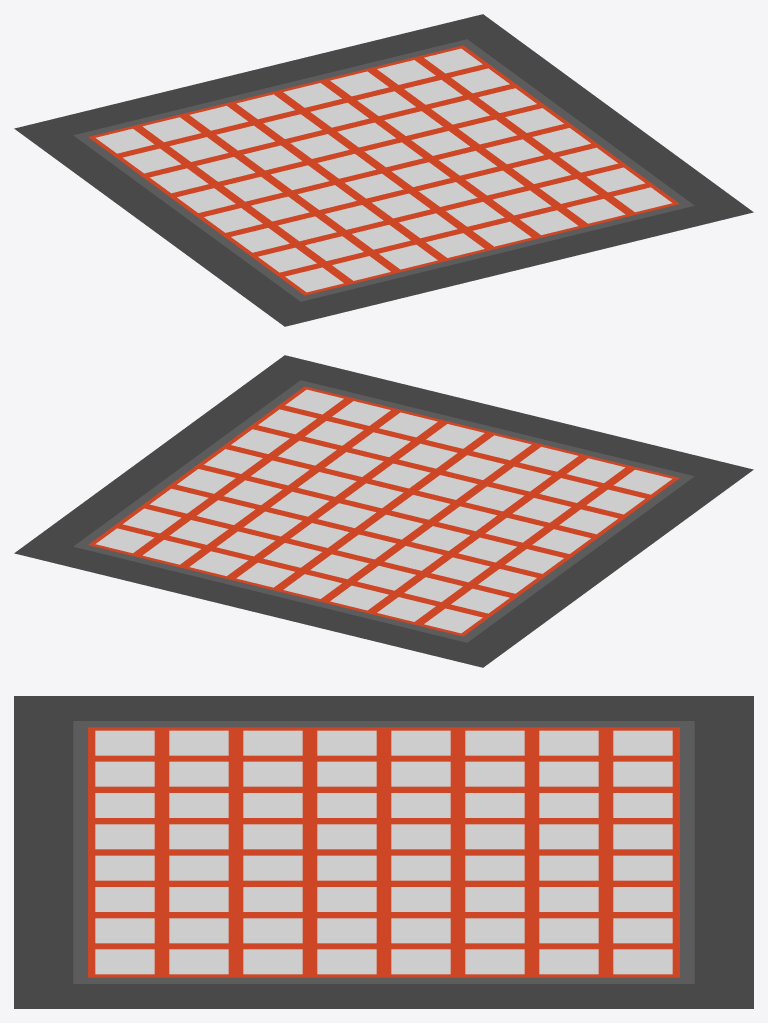
Rendered from FloorVar2Model.fbx.
The picture shows the model from 3 angles, top to bottom: view 1: azimuth 30°, elevation 25°; view 2: azimuth 150°, elevation 25°; view 3: azimuth 270°, elevation 25°; orthographic projection. The views are drawn at different scales.
Visible parts, largest first — view 1: FloorVar2; view 2: FloorVar2; view 3: FloorVar2.
Part boxes in pixels (box(x1,y1,x2,y2)): FloorVar2: box(14, 14, 753, 326); FloorVar2: box(14, 355, 753, 667); FloorVar2: box(14, 696, 753, 1008).
Size of the model in its own units: 10 by 0 by 10.
